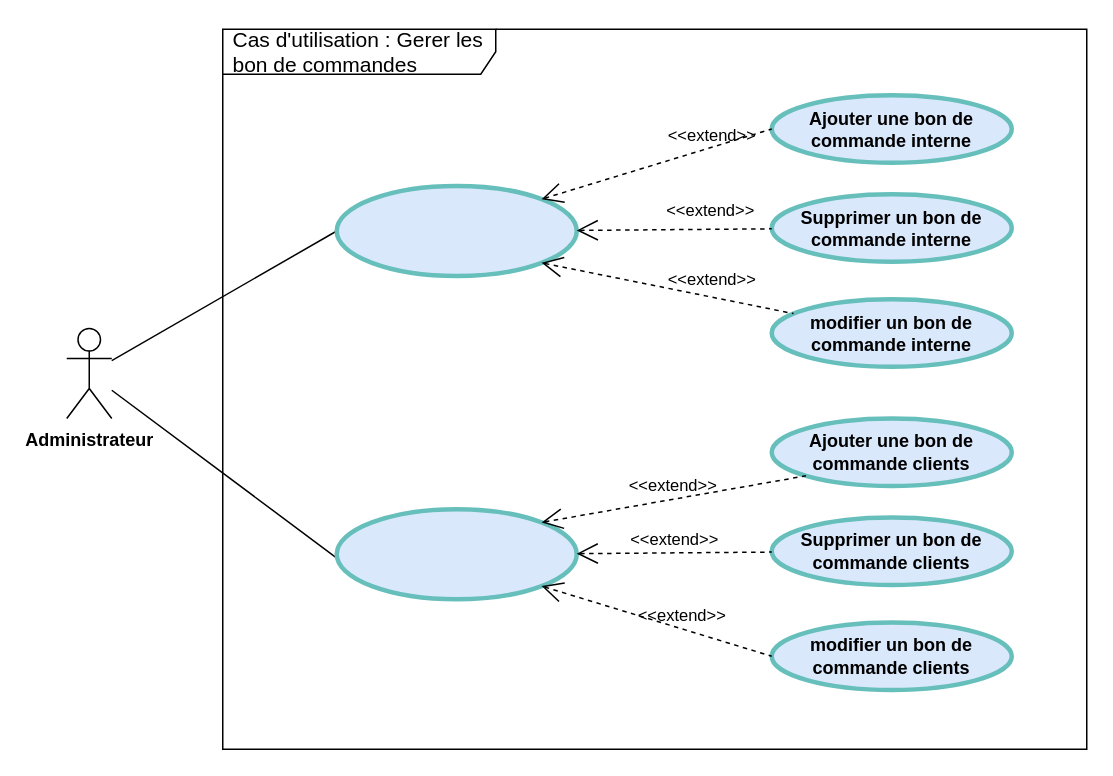
Image size: 1113x776. Some labels were removed from this diagram. Here are the shapes that lost their labels. From the top down, the box of each, then its label:
(334, 183, 578, 278): Consulter les bon de commande interne
(334, 506, 578, 601): Consulter les bon de commande clients
